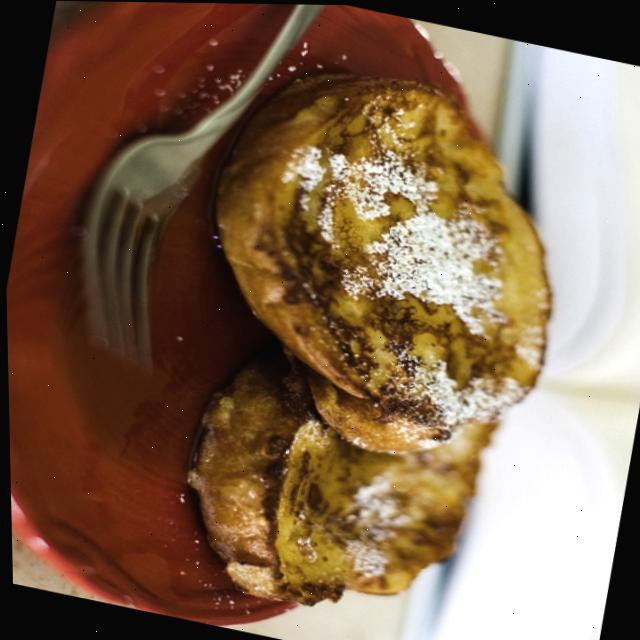面包点心: (151, 49, 596, 640)
